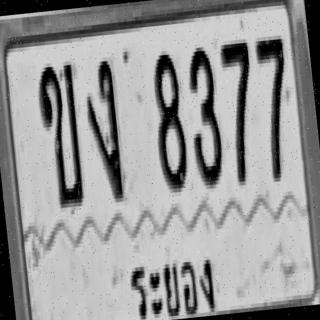A02: (35, 61, 87, 209)
A07: (81, 56, 126, 200)
N03: (183, 41, 226, 188)
N07: (218, 37, 261, 184), (253, 33, 296, 180)
N08: (147, 48, 190, 192)
P53: (122, 240, 221, 320)
